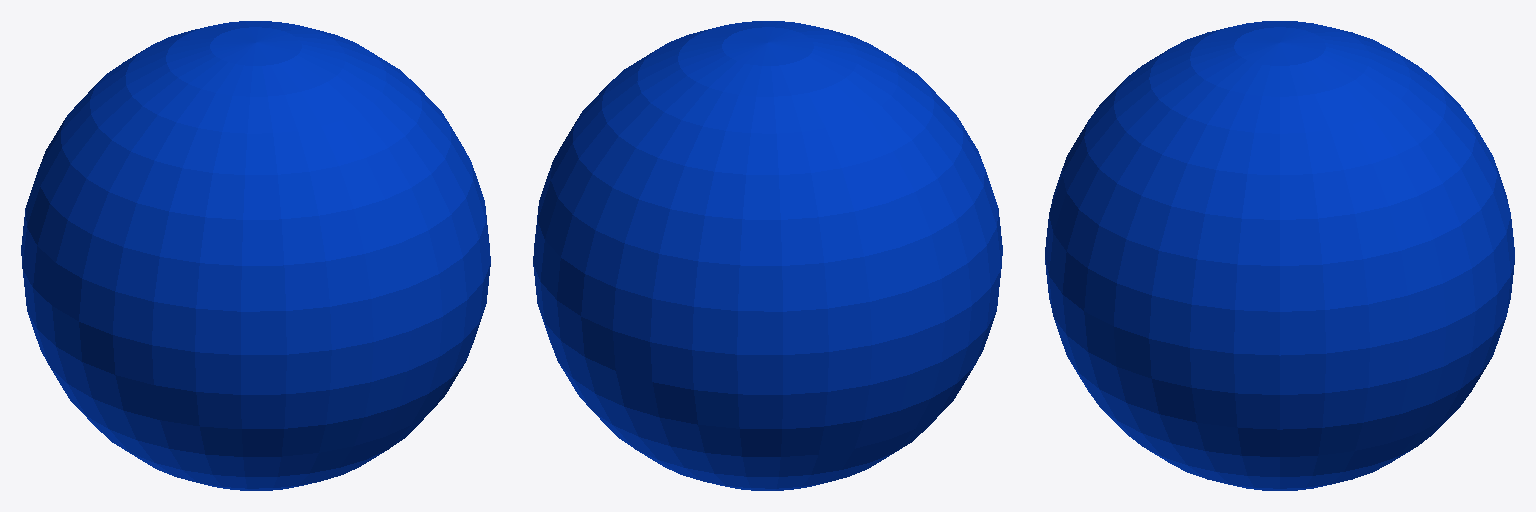
Rendered from sphere_uv_smooth.obj.
3 views of the same model, side by side, from view 1: azimuth 30°, elevation 25°; view 2: azimuth 150°, elevation 25°; view 3: azimuth 270°, elevation 25° (orthographic).
Visible parts, largest first — view 1: Sphere; view 2: Sphere; view 3: Sphere.
Part boxes in pixels (bbox=[...]): Sphere: bbox=[21, 21, 490, 490]; Sphere: bbox=[533, 21, 1002, 490]; Sphere: bbox=[1045, 21, 1514, 490].
Bounding box in the file's own units: 2 × 2 × 2.